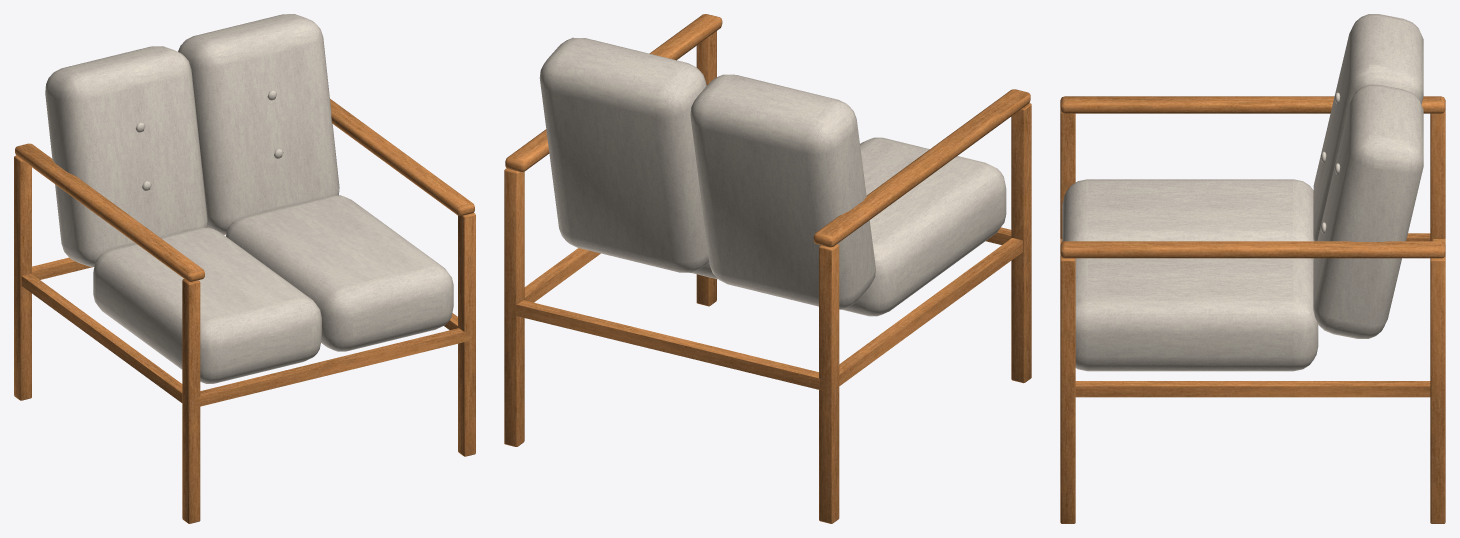
File: lounge.lounge-chair-fabric.glb
3 renders of one model, left to right at view 1: azimuth 30°, elevation 25°; view 2: azimuth 150°, elevation 25°; view 3: azimuth 270°, elevation 25°, orthographic. The views are drawn at different scales.
Parts seen in each view (by area): view 1: lounge.lounge-chair-fabric.001; view 2: lounge.lounge-chair-fabric.001; view 3: lounge.lounge-chair-fabric.001.
Part boxes in pixels (left/top/right/bottom): lounge.lounge-chair-fabric.001: left=14, top=14, right=475, bottom=523; lounge.lounge-chair-fabric.001: left=504, top=14, right=1031, bottom=523; lounge.lounge-chair-fabric.001: left=1060, top=14, right=1445, bottom=523.
Bounding box in the file's own units: 0.72 × 0.8099 × 0.76.
2 materials, 2 textured.
